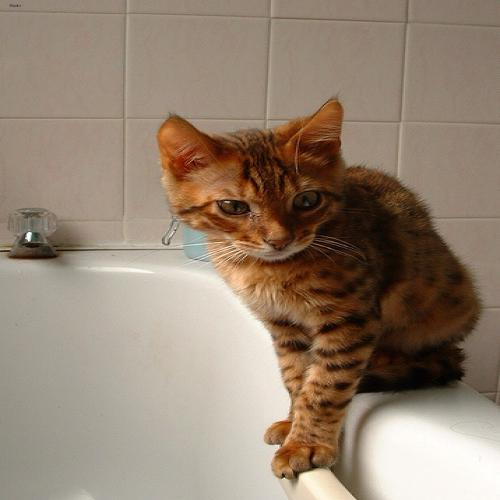bengal: (151, 95, 364, 267)
